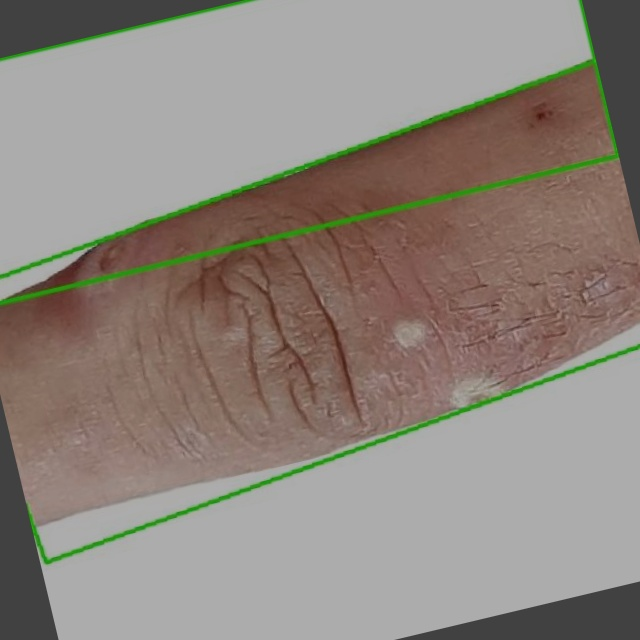Scabies: (0, 60, 639, 562), (0, 0, 618, 303)
